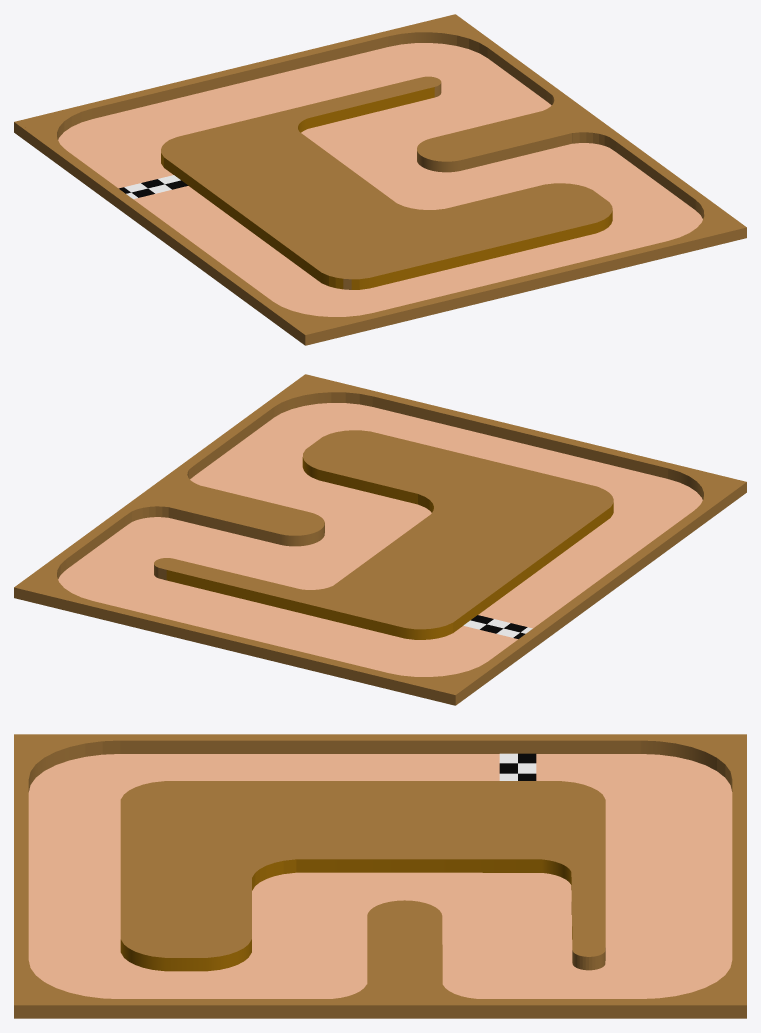
The model's file is Pista_V3F2.fbx.
The picture shows the model from 3 angles, top to bottom: view 1: azimuth 30°, elevation 25°; view 2: azimuth 150°, elevation 25°; view 3: azimuth 270°, elevation 25°; orthographic projection. The views are drawn at different scales.
Visible parts, largest first — view 1: Plane.050, CurvasInts, PE3, CurvaExtra, CantosExts.002, meta; view 2: Plane.050, CurvasInts, PE3, CurvaExtra, CantosExts.002, meta; view 3: Plane.050, CurvasInts, PE3, CurvaExtra, CantosExts.002, meta.
Part boxes in pixels (left/top/right/bottom): Plane.050: left=58, top=43, right=702, bottom=316; CurvasInts: left=161, top=76, right=612, bottom=289; PE3: left=14, top=14, right=746, bottom=345; CurvaExtra: left=417, top=91, right=625, bottom=172; CantosExts.002: left=16, top=21, right=740, bottom=328; meta: left=119, top=175, right=188, bottom=199; Plane.050: left=58, top=403, right=702, bottom=676; CurvasInts: left=154, top=430, right=613, bottom=639; PE3: left=14, top=374, right=746, bottom=705; CurvaExtra: left=125, top=462, right=324, bottom=546; CantosExts.002: left=30, top=375, right=730, bottom=693; meta: left=463, top=615, right=532, bottom=638; Plane.050: left=28, top=754, right=732, bottom=998; CurvasInts: left=120, top=781, right=605, bottom=971; PE3: left=14, top=734, right=746, bottom=1018; CurvaExtra: left=317, top=900, right=492, bottom=1018; CantosExts.002: left=17, top=735, right=744, bottom=1003; meta: left=499, top=753, right=536, bottom=780.
Bounding box in the file's own units: 20846 × 490 × 23824.
